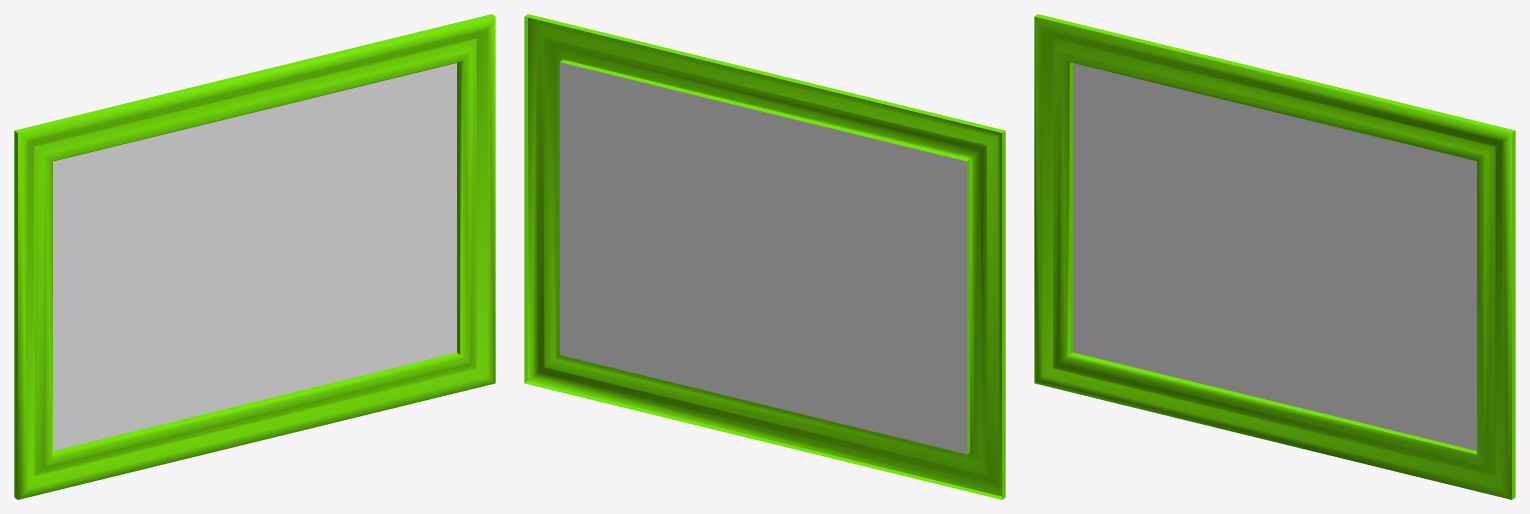
File: painting_14_mesh.fbx
3 views of the same model, side by side, from view 1: azimuth 30°, elevation 25°; view 2: azimuth 150°, elevation 25°; view 3: azimuth 330°, elevation 25° (orthographic).
Visible parts, largest first — view 1: painting; view 2: painting; view 3: painting.
Boxes of the visible parts, <box> form: painting: <box>14,14,495,499</box>; painting: <box>524,14,1005,499</box>; painting: <box>1034,14,1515,499</box>.
Bounding box in the file's own units: 1.17 × 0.8602 × 0.02.
